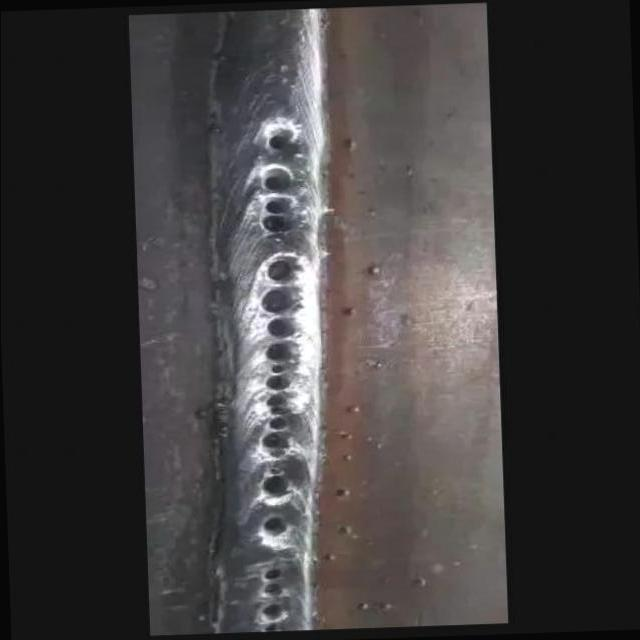defect: (255, 255, 298, 462), (255, 161, 300, 238), (257, 568, 286, 631), (251, 471, 293, 498), (256, 514, 288, 537), (268, 128, 294, 153)
